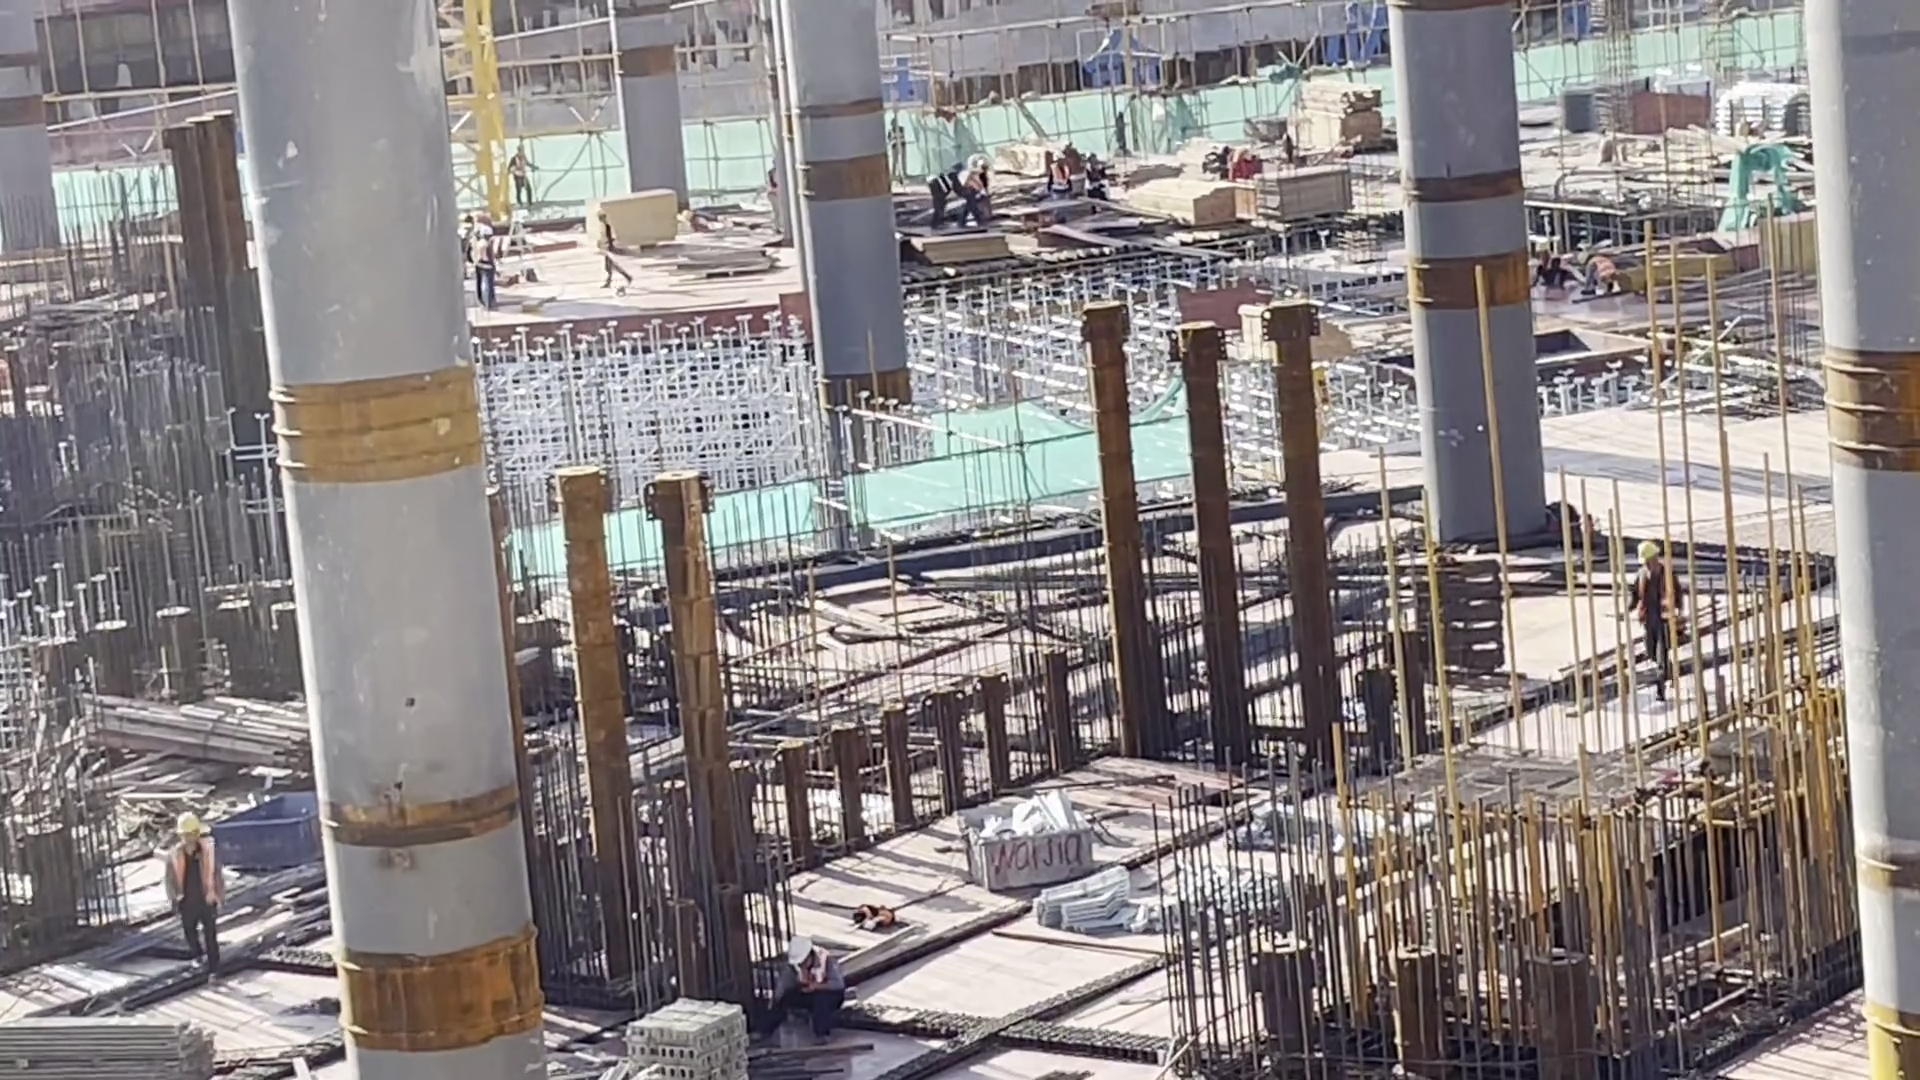helmet: (167, 802, 212, 842), (775, 931, 809, 972), (1635, 529, 1661, 559)
hopper: (969, 801, 1115, 895)
person: (140, 798, 240, 957), (1608, 539, 1699, 669), (1533, 234, 1622, 297), (954, 148, 999, 235), (593, 205, 630, 302), (925, 163, 966, 230), (467, 226, 499, 311), (504, 141, 544, 200)
vest: (752, 930, 843, 1039), (155, 837, 222, 909), (1637, 575, 1676, 624)
wood: (201, 776, 328, 883), (1, 1019, 230, 1076)
